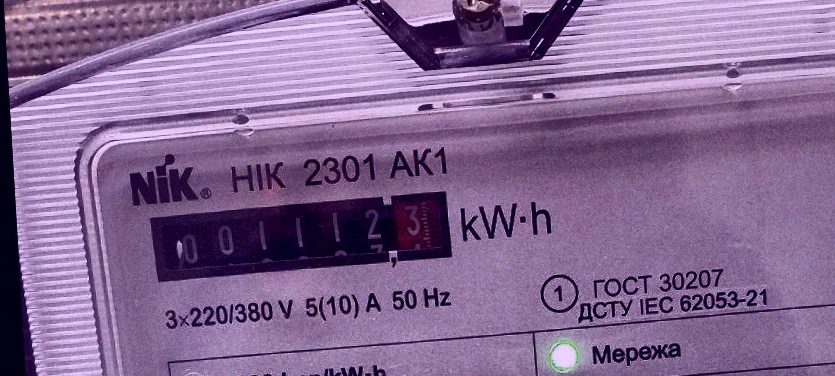0: (213, 220, 238, 259), (178, 229, 202, 265)
1: (252, 215, 272, 254), (290, 212, 306, 251), (328, 208, 344, 245)
2: (361, 205, 385, 242)
3: (402, 202, 422, 238)
screen: (142, 187, 460, 286)
